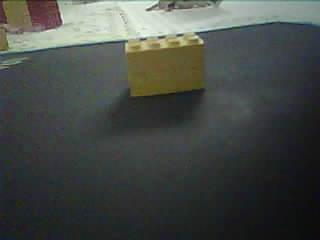lego: (122, 30, 207, 98), (1, 1, 63, 33)
